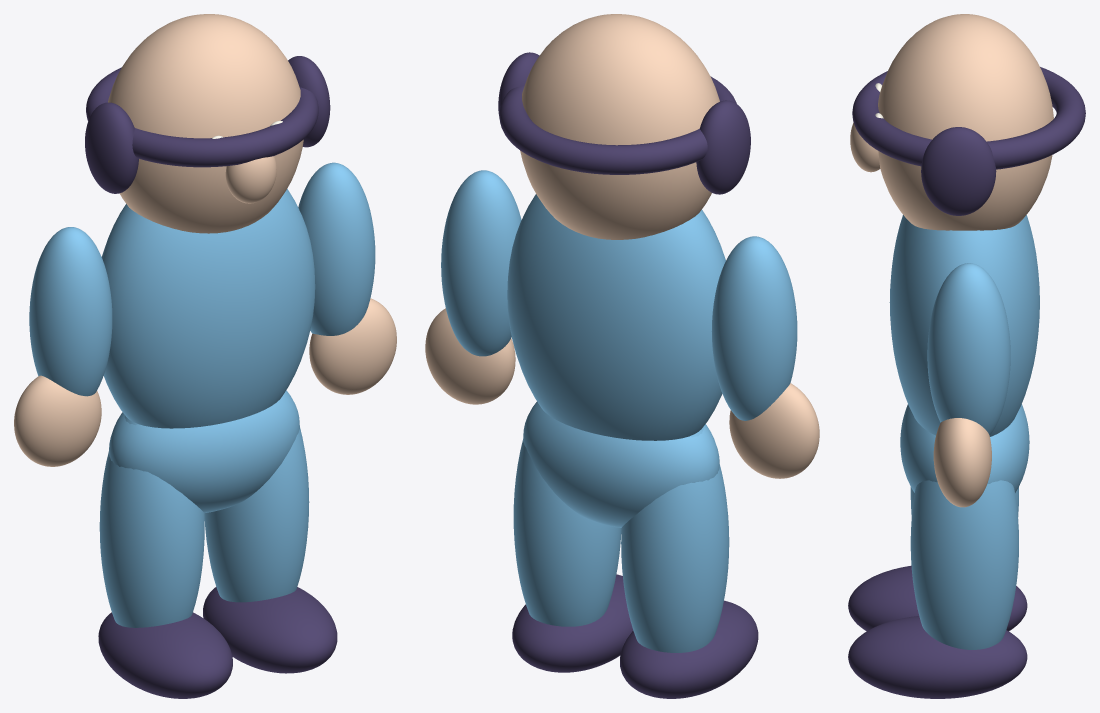
The model's file is Wonder_Sound.glb.
3 renders of one model, left to right at view 1: azimuth 30°, elevation 25°; view 2: azimuth 150°, elevation 25°; view 3: azimuth 270°, elevation 25°, orthographic. The views are drawn at different scales.
Parts seen in each view (by area): view 1: Torso, Head, Leg_-1, Pelvis, ArmUpper_-1, Leg_1, ArmUpper_1, Shoe_-1, Shoe_1, Headphone_Band, Hand_-1, Hand_1 (+3 smaller); view 2: Torso, Head, Leg_-1, Pelvis, ArmUpper_-1, Leg_1, ArmUpper_1, Headphone_Band, Shoe_-1, Shoe_1, Hand_-1, Hand_1 (+2 smaller); view 3: Head, Torso, Leg_1, ArmUpper_1, Shoe_1, Headphone_Band, Headphone_R, Pelvis, Hand_1, Shoe_-1, Nose.
Boxes of the visible parts, x1,y1,x2,y2 form: Torso: (101,189,315,428); Head: (108,14,303,233); Leg_-1: (99,415,204,627); Pelvis: (109,390,299,512); ArmUpper_-1: (29,227,112,396); Leg_1: (204,428,309,602); ArmUpper_1: (298,162,375,335); Shoe_-1: (98,612,232,698); Shoe_1: (203,587,337,673); Headphone_Band: (86,67,318,167); Hand_-1: (14,375,101,466); Hand_1: (309,298,396,394); Torso: (507,194,725,440); Head: (520,14,719,239); Leg_-1: (621,427,729,652); Pelvis: (523,401,719,527); ArmUpper_-1: (711,236,797,420); Leg_1: (513,440,621,626); ArmUpper_1: (441,170,521,356); Headphone_Band: (499,76,736,174); Shoe_-1: (620,600,758,698); Shoe_1: (512,574,633,672); Hand_-1: (729,383,819,478); Hand_1: (425,308,515,404); Head: (878,14,1053,230); Torso: (889,215,1039,436); Leg_1: (910,480,1018,649); ArmUpper_1: (927,263,1010,435); Shoe_1: (848,616,1027,698); Headphone_Band: (852,67,1085,169); Headphone_R: (921,127,996,215); Pelvis: (900,404,1029,492); Hand_1: (933,418,991,507); Shoe_-1: (848,565,1027,631); Nose: (850,122,880,172).
Size of the model in its own units: 2.1 by 3.4 by 1.14.
